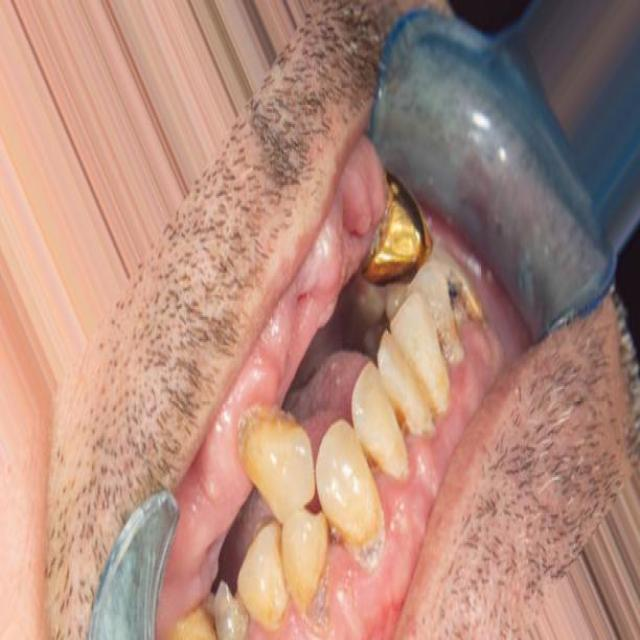caries: (434, 268, 488, 360), (208, 568, 252, 640)
